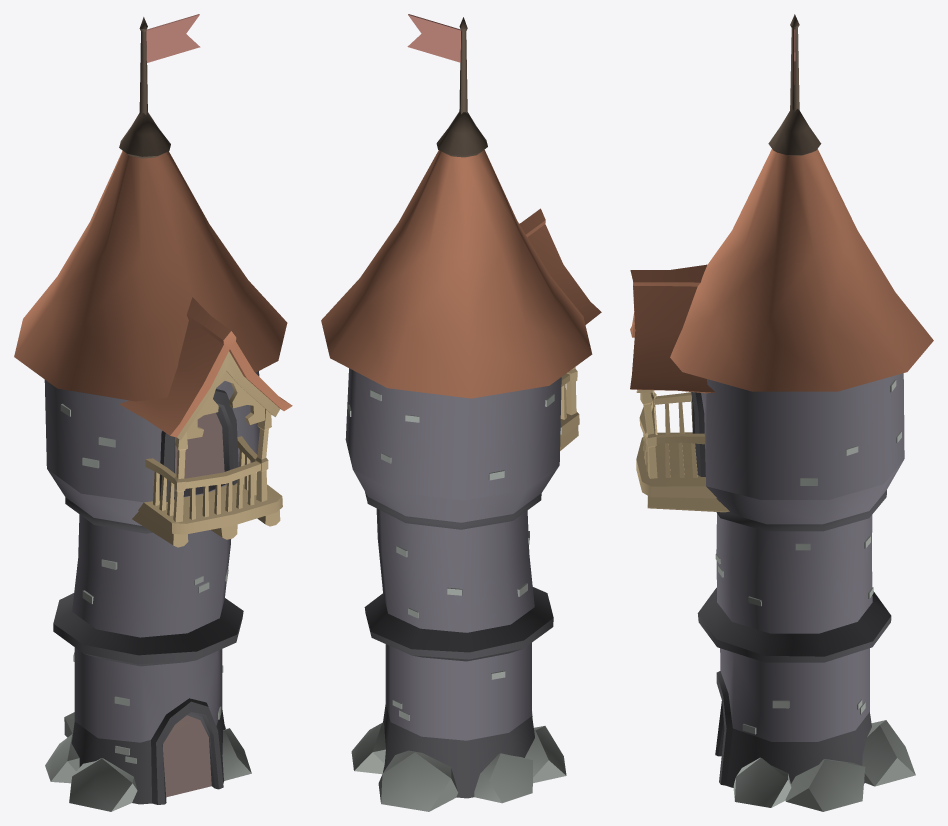
File: tower.obj
3 views of the same model, side by side, from view 1: azimuth 30°, elevation 25°; view 2: azimuth 150°, elevation 25°; view 3: azimuth 270°, elevation 25° (orthographic).
Parts seen in each view (by area): view 1: obj1; view 2: obj1; view 3: obj1.
Part boxes in pixels (<box>): obj1: <box>14,14,292,811</box>; obj1: <box>321,14,601,811</box>; obj1: <box>630,14,933,811</box>.
Bounding box in the file's own units: 5.77 × 18.08 × 6.64.
